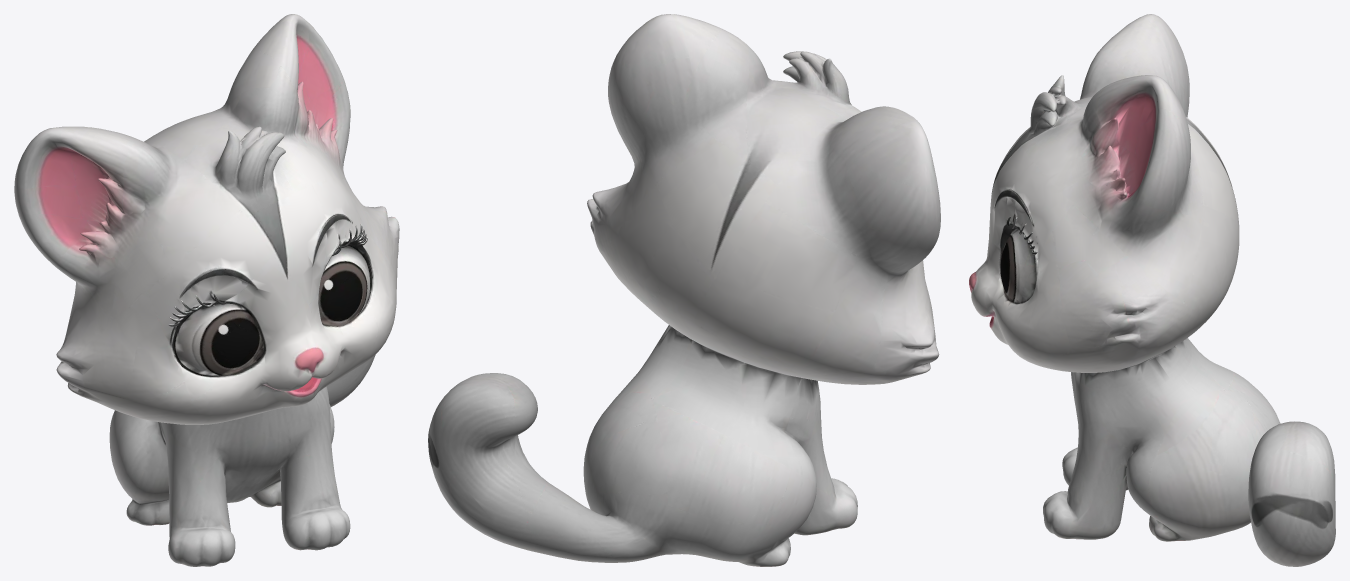
Rendered from kitty.glb.
The picture shows the model from 3 angles, left to right: view 1: azimuth 30°, elevation 25°; view 2: azimuth 150°, elevation 25°; view 3: azimuth 270°, elevation 25°; orthographic projection. The views are drawn at different scales.
Size of the model in its own units: 1.73 by 1.9 by 1.37.
Materials: 1 (1 with a texture image).
